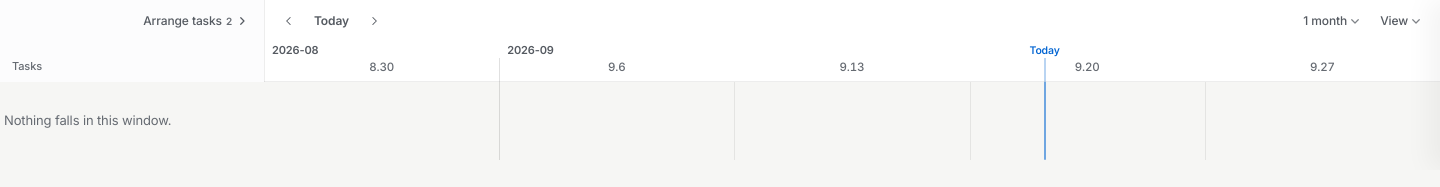
Test: Arrange tasks › names itself and counts what is waiting
Click the button "Arrange tasks 2": [196, 21] box x1=137 y1=7 x2=254 y2=35
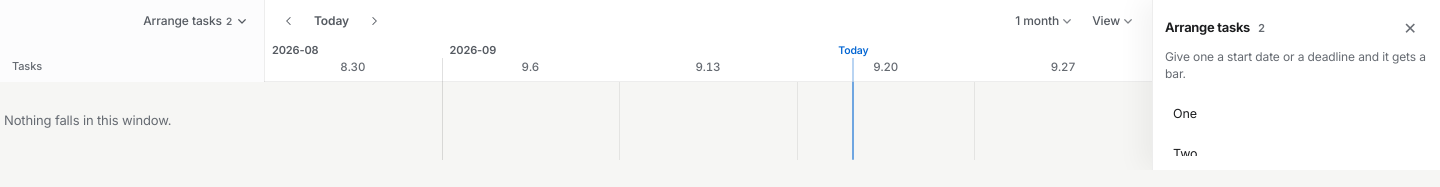
Expected: the heading "Arrange tasks" is shown, x1=1165 y1=18 x2=1250 y2=38
Expected: the text with class "tm-count" reads "2", x1=1258 y1=21 x2=1265 y2=35
